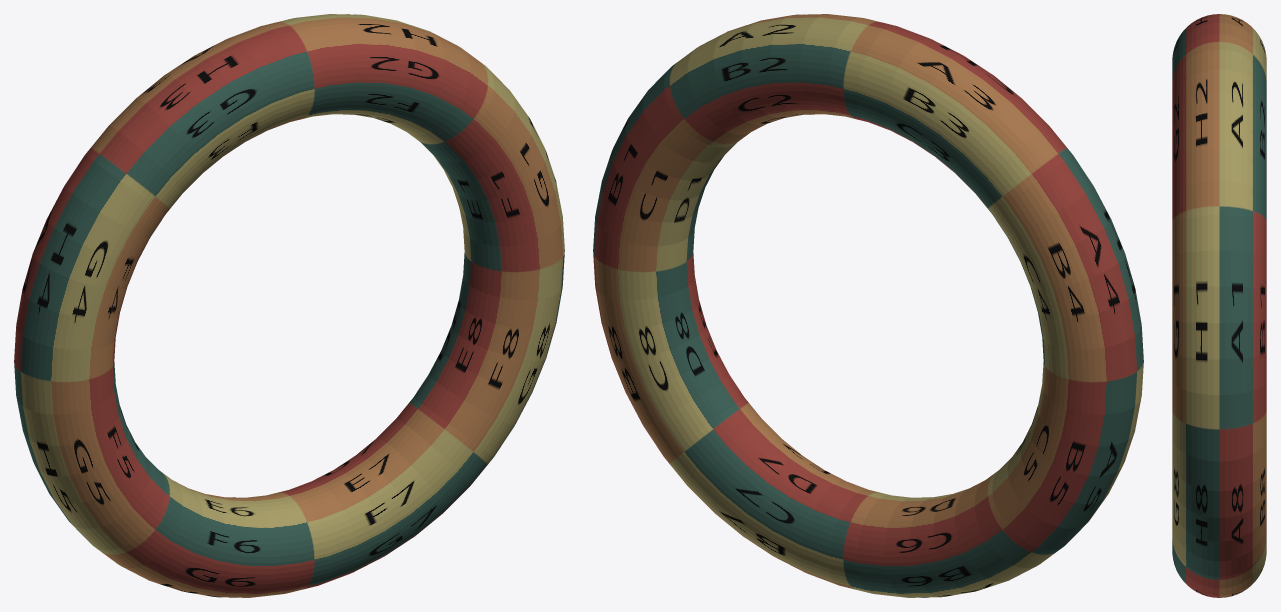
Rendered from texture_torus_R13_r6.glb.
3 views of the same model, side by side, from view 1: azimuth 30°, elevation 25°; view 2: azimuth 150°, elevation 25°; view 3: azimuth 270°, elevation 25° (orthographic). The views are drawn at different scales.
Visible parts, largest first — view 1: world; view 2: world; view 3: world.
Part boxes in pixels (x1,y1,x2,y2): world: (14, 14, 564, 597); world: (593, 14, 1143, 597); world: (1172, 14, 1266, 597).
Bounding box in the file's own units: 22.27 × 22.22 × 3.59.
Materials: 1 (1 with a texture image).
